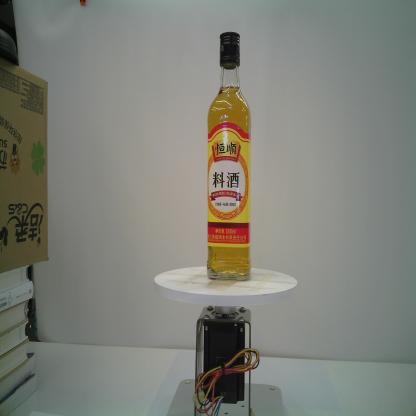Seasoner: (202, 29, 253, 284)
